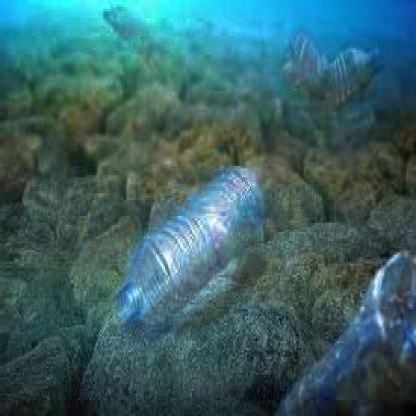pbottle: (106, 154, 274, 336), (268, 248, 416, 416), (280, 9, 390, 114)
